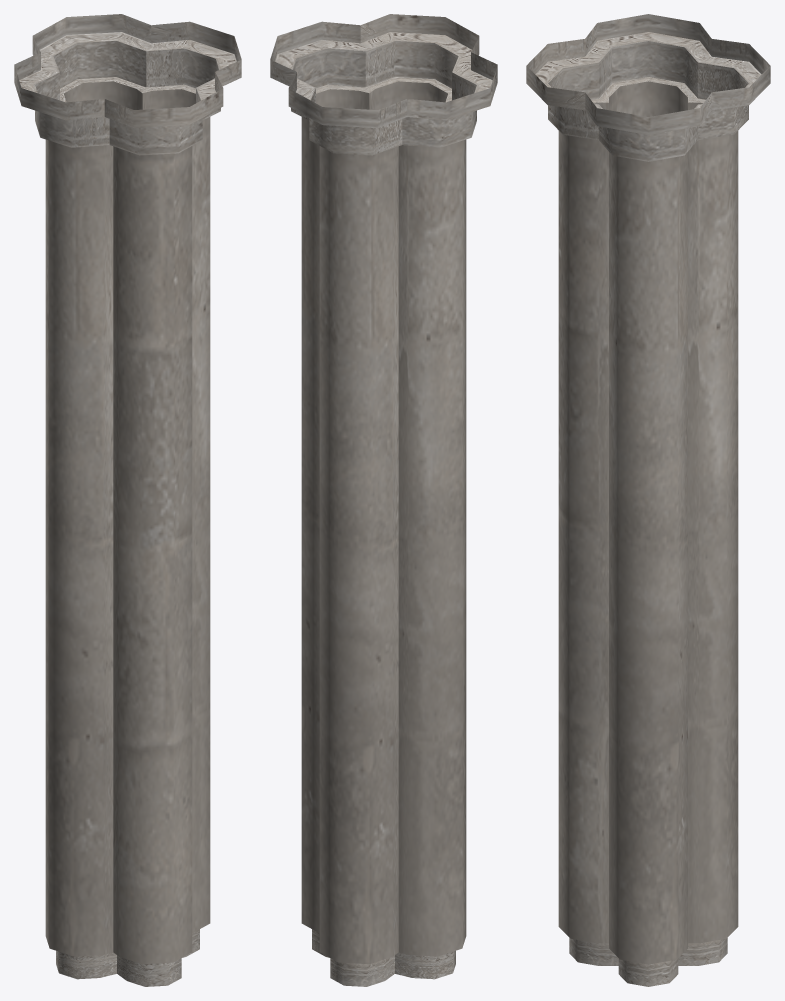
The model's file is column_01.fbx.
3 renders of one model, left to right at view 1: azimuth 30°, elevation 25°; view 2: azimuth 150°, elevation 25°; view 3: azimuth 270°, elevation 25°, orthographic.
Visible parts, largest first — view 1: Circle001; view 2: Circle001; view 3: Circle001.
Boxes of the visible parts, left/top/right/bottom form: Circle001: left=14, top=14, right=241, bottom=986; Circle001: left=270, top=14, right=497, bottom=986; Circle001: left=526, top=14, right=770, bottom=986.
Size of the model in its own units: 24.66 by 24.66 by 99.
1 material, 1 textured.
